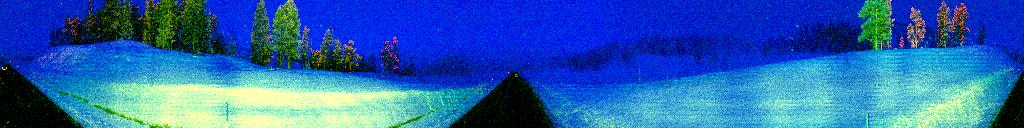pole: (224, 100, 231, 128), (864, 111, 871, 128)
